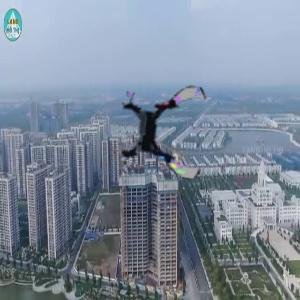drone: (116, 82, 214, 180)
